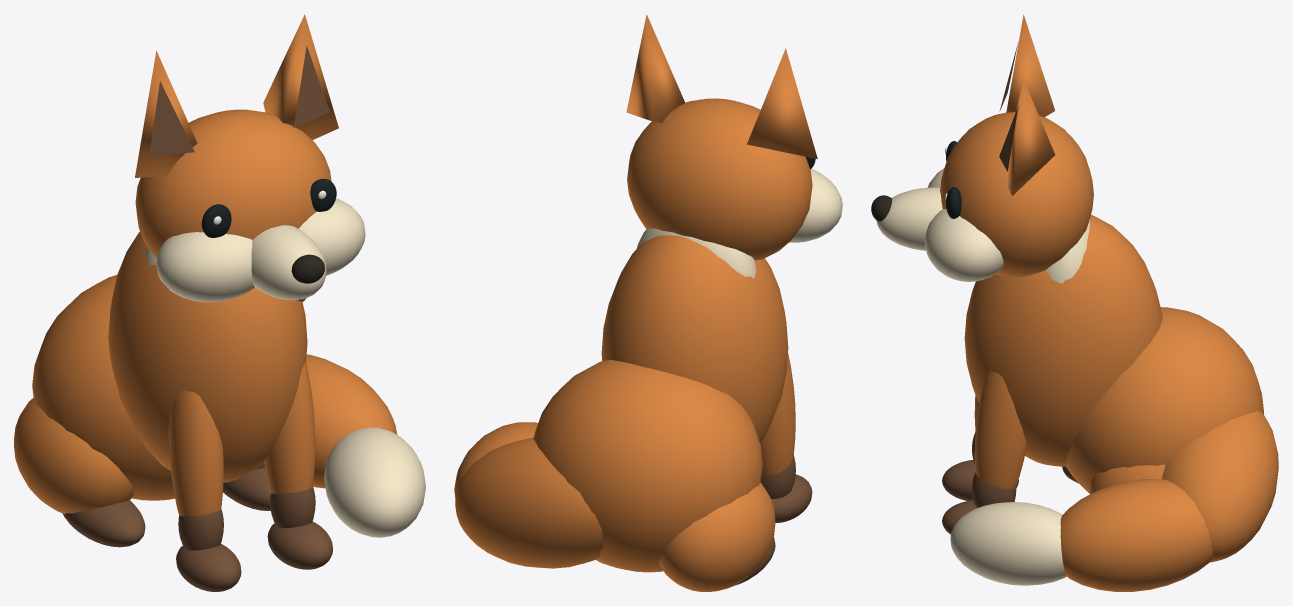
The model's file is vos_rustend.glb.
3 views of the same model, side by side, from view 1: azimuth 30°, elevation 25°; view 2: azimuth 150°, elevation 25°; view 3: azimuth 270°, elevation 25° (orthographic). The views are drawn at different scales.
Visible parts, largest first — view 1: Fox_upright_chest, Fox_head.001, Fox_sitting_haunch, Fox_white_tail_tip.001, Fox_folded_hind_leg, Fox_white_cheek.002, Fox_front_leg, Fox_tail_sweep.001, Fox_front_leg.001, Fox_tapered_muzzle.001, Fox_pointed_ear.003, Fox_white_cheek.003 (+12 smaller); view 2: Fox_sitting_haunch, Fox_upright_chest, Fox_head.001, Fox_bushy_tail.001, Fox_folded_hind_leg, Fox_pointed_ear.002, Fox_pointed_ear.003, Fox_front_leg, Fox_white_cheek.002, Fox_tail_sweep.001, White_fox_bib.001, Fox_front_paw (+1 smaller); view 3: Fox_upright_chest, Fox_sitting_haunch, Fox_head.001, Fox_tail_sweep.001, Fox_bushy_tail.001, Fox_white_tail_tip.001, Fox_front_leg.001, Fox_white_cheek.003, Fox_pointed_ear.003, Fox_tapered_muzzle.001, Fox_pointed_ear.002, Fox_folded_hind_leg.001 (+4 smaller).
Boxes of the visible parts, bbox=[...] form: Fox_upright_chest: bbox=[108, 231, 307, 482]; Fox_head.001: bbox=[135, 109, 331, 258]; Fox_sitting_haunch: bbox=[32, 275, 174, 500]; Fox_white_tail_tip.001: bbox=[324, 427, 425, 537]; Fox_folded_hind_leg: bbox=[14, 398, 133, 513]; Fox_white_cheek.002: bbox=[156, 232, 254, 302]; Fox_front_leg: bbox=[168, 390, 223, 516]; Fox_tail_sweep.001: bbox=[306, 354, 397, 488]; Fox_front_leg.001: bbox=[264, 361, 315, 493]; Fox_tapered_muzzle.001: bbox=[251, 225, 326, 300]; Fox_pointed_ear.003: bbox=[263, 14, 338, 139]; Fox_white_cheek.003: bbox=[299, 198, 365, 275]; Fox_sitting_haunch: bbox=[533, 360, 762, 572]; Fox_upright_chest: bbox=[601, 235, 788, 442]; Fox_head.001: bbox=[627, 98, 812, 260]; Fox_bushy_tail.001: bbox=[455, 437, 603, 568]; Fox_folded_hind_leg: bbox=[659, 482, 775, 591]; Fox_pointed_ear.002: bbox=[747, 48, 817, 158]; Fox_pointed_ear.003: bbox=[626, 14, 685, 123]; Fox_front_leg: bbox=[760, 353, 795, 475]; Fox_white_cheek.002: bbox=[789, 169, 842, 242]; Fox_tail_sweep.001: bbox=[454, 422, 537, 497]; White_fox_bib.001: bbox=[636, 228, 756, 278]; Fox_front_paw: bbox=[771, 474, 812, 522]; Fox_upright_chest: bbox=[964, 214, 1162, 466]; Fox_sitting_haunch: bbox=[1066, 307, 1263, 493]; Fox_head.001: bbox=[940, 112, 1093, 277]; Fox_tail_sweep.001: bbox=[1060, 479, 1213, 591]; Fox_bushy_tail.001: bbox=[1162, 411, 1278, 562]; Fox_white_tail_tip.001: bbox=[950, 502, 1066, 585]; Fox_front_leg.001: bbox=[974, 371, 1026, 489]; Fox_white_cheek.003: bbox=[924, 209, 1003, 281]; Fox_pointed_ear.003: bbox=[1007, 79, 1055, 195]; Fox_tapered_muzzle.001: bbox=[876, 187, 942, 250]; Fox_pointed_ear.002: bbox=[1006, 14, 1055, 117]; Fox_folded_hind_leg.001: bbox=[1089, 464, 1165, 494].
Size of the model in its own units: 0.7603 by 1.15 by 0.8984.
